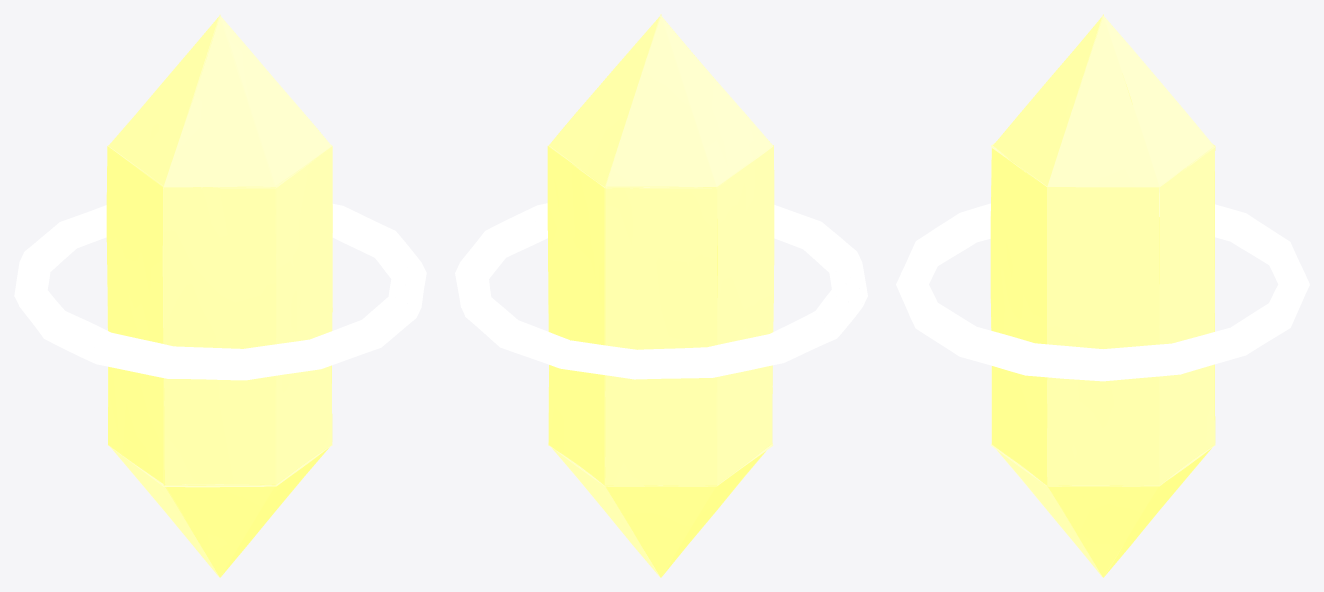
Rendered from crystal4.glb.
The picture shows the model from 3 angles, left to right: view 1: azimuth 30°, elevation 25°; view 2: azimuth 150°, elevation 25°; view 3: azimuth 270°, elevation 25°; orthographic projection.
Parts seen in each view (by area): view 1: PrismBody; view 2: PrismBody; view 3: PrismBody.
Boxes of the visible parts, left/top/right/bottom form: PrismBody: left=14, top=14, right=426, bottom=577; PrismBody: left=455, top=14, right=867, bottom=577; PrismBody: left=896, top=14, right=1309, bottom=577.
Bounding box in the file's own units: 1.7 × 2.54 × 1.69.
